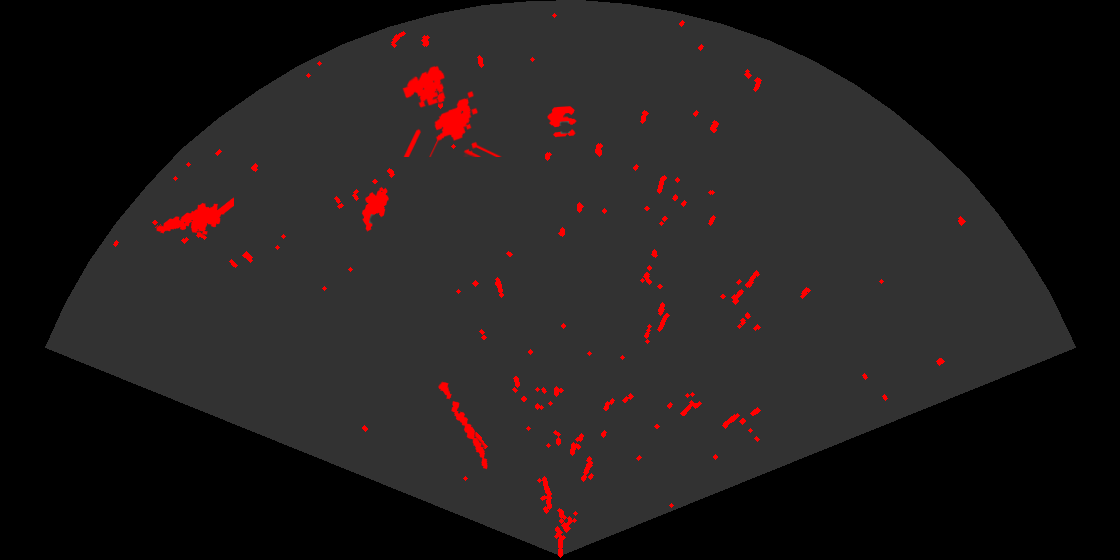AUV: (360, 185, 390, 233)
ball: (546, 105, 578, 139)
cage: (401, 64, 503, 157)
chain: (437, 380, 489, 471)
frogman: (155, 196, 234, 236)
